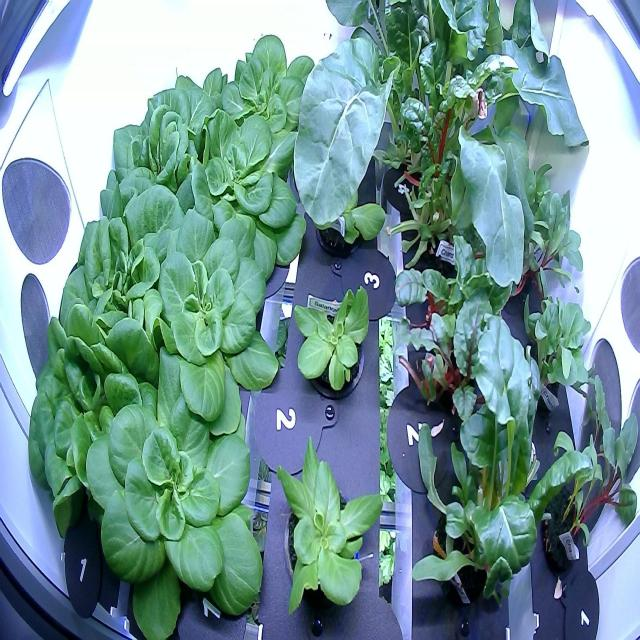Ready: (22, 299, 169, 557), (52, 177, 195, 384), (90, 102, 209, 248), (136, 55, 245, 187)
young: (78, 344, 268, 640), (134, 197, 286, 442), (264, 424, 390, 629), (176, 102, 312, 278), (207, 22, 324, 166), (281, 262, 375, 406), (296, 122, 391, 259)
